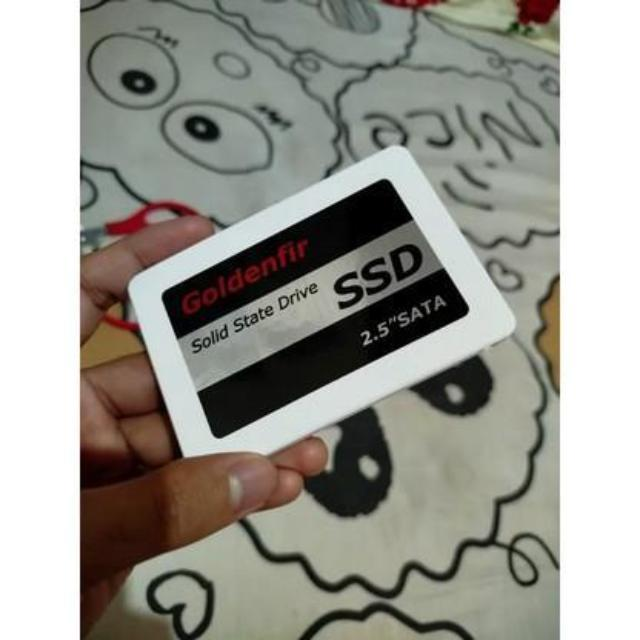DISK: (115, 138, 520, 472)
